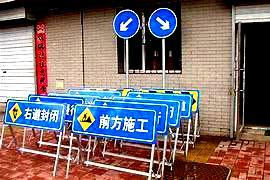sign: (74, 106, 154, 136), (6, 101, 64, 127)
